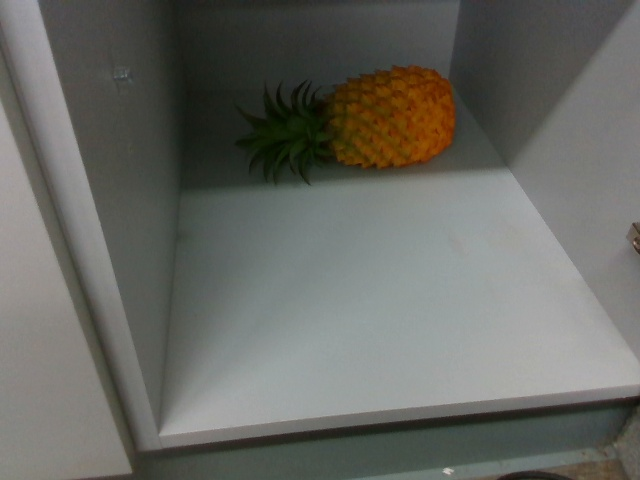pineapple: (257, 58, 460, 179)
